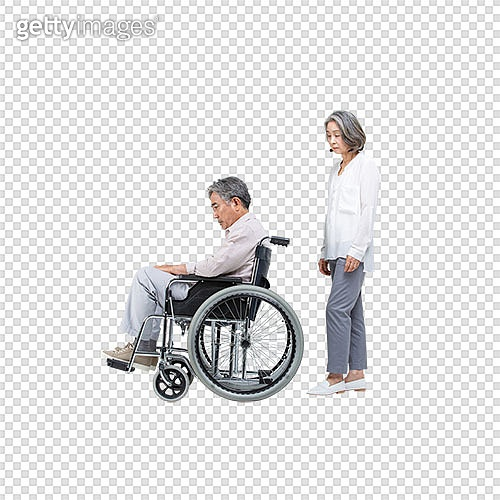wheelchair: (102, 177, 303, 402)
